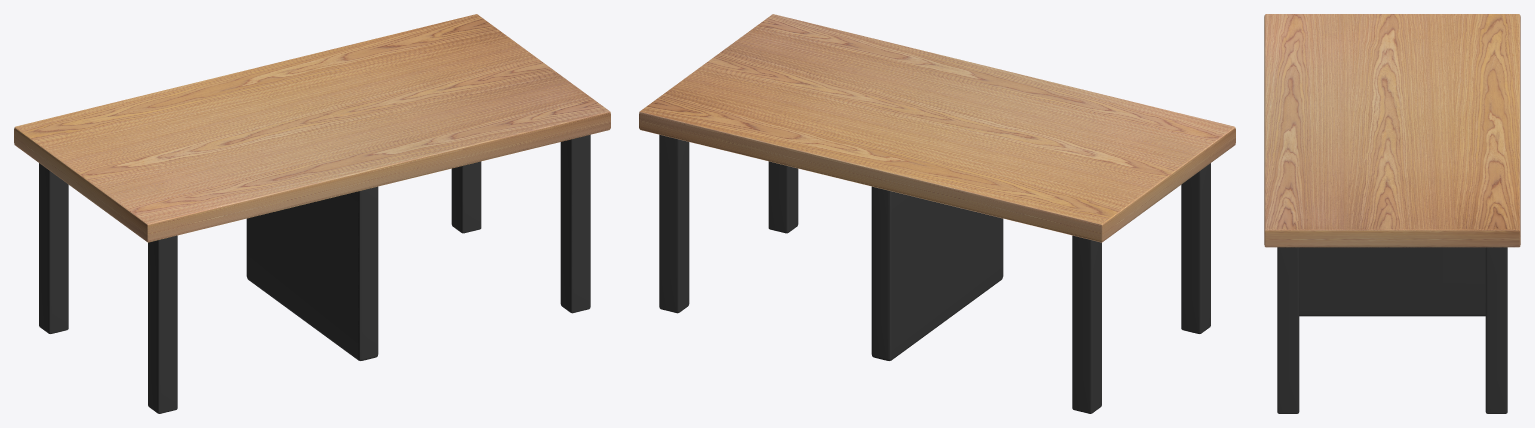
The model's file is Selling Table.fbx.
3 renders of one model, left to right at view 1: azimuth 30°, elevation 25°; view 2: azimuth 150°, elevation 25°; view 3: azimuth 270°, elevation 25°, orthographic. The views are drawn at different scales.
Visible parts, largest first — view 1: ST_Desk, ST_Middle_Part, ST_Leg_1, ST_Leg_4, ST_Leg_3, ST_Leg_2; view 2: ST_Desk, ST_Middle_Part, ST_Leg_2, ST_Leg_3, ST_Leg_4, ST_Leg_1; view 3: ST_Desk, ST_Middle_Part, ST_Leg_1, ST_Leg_2.
Part boxes in pixels (x1,y1,x2,y2): ST_Desk: (14, 14, 610, 242); ST_Middle_Part: (246, 186, 378, 360); ST_Leg_1: (560, 134, 590, 313); ST_Leg_4: (148, 235, 177, 413); ST_Leg_3: (39, 163, 68, 333); ST_Leg_2: (451, 161, 481, 233); ST_Desk: (639, 14, 1235, 242); ST_Middle_Part: (871, 186, 1003, 360); ST_Leg_2: (659, 134, 689, 313); ST_Leg_3: (1072, 235, 1101, 413); ST_Leg_4: (1181, 163, 1210, 333); ST_Leg_1: (768, 161, 798, 233); ST_Desk: (1264, 14, 1520, 247); ST_Middle_Part: (1299, 247, 1485, 316); ST_Leg_1: (1277, 247, 1299, 413); ST_Leg_2: (1485, 247, 1507, 413).
Size of the model in its own units: 62.42 by 25.72 by 31.21.
Materials: 2 (1 with a texture image).
